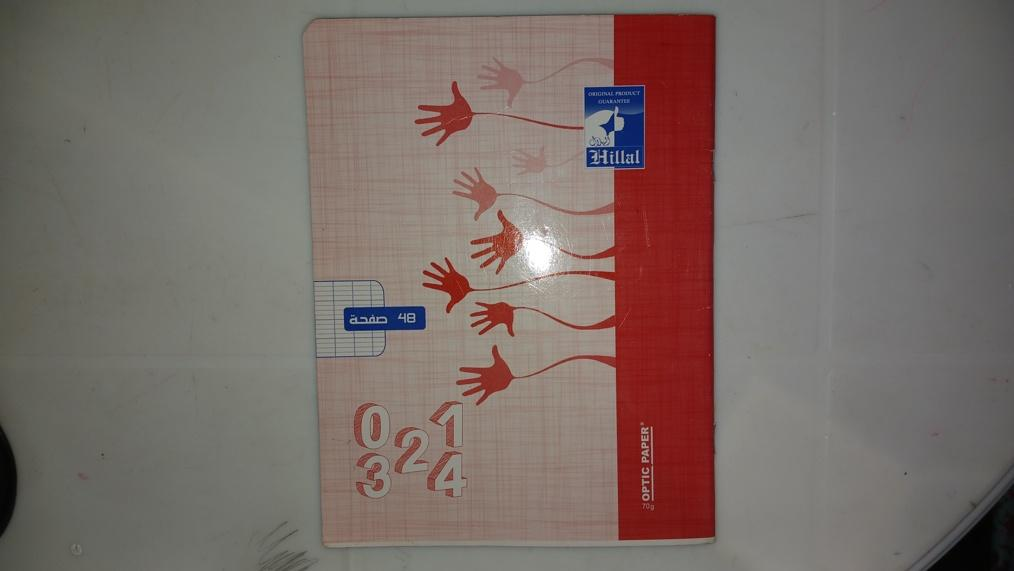notebook: (316, 11, 717, 545)
